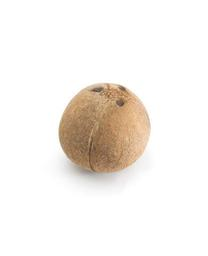coconut: (55, 82, 154, 178)
